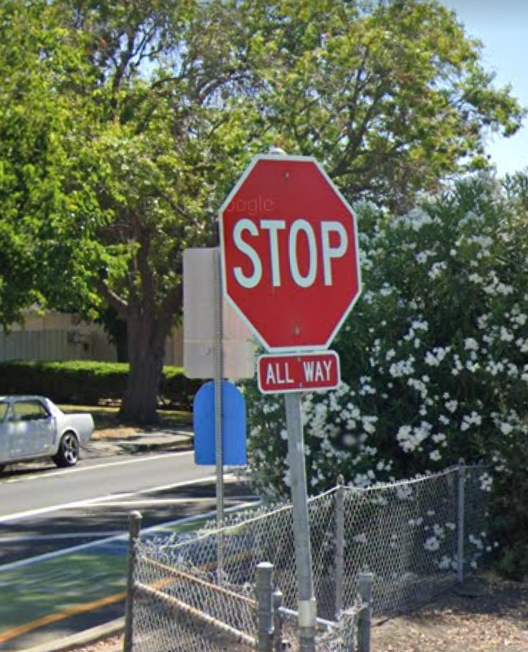stop_sign: (221, 159, 361, 353)
